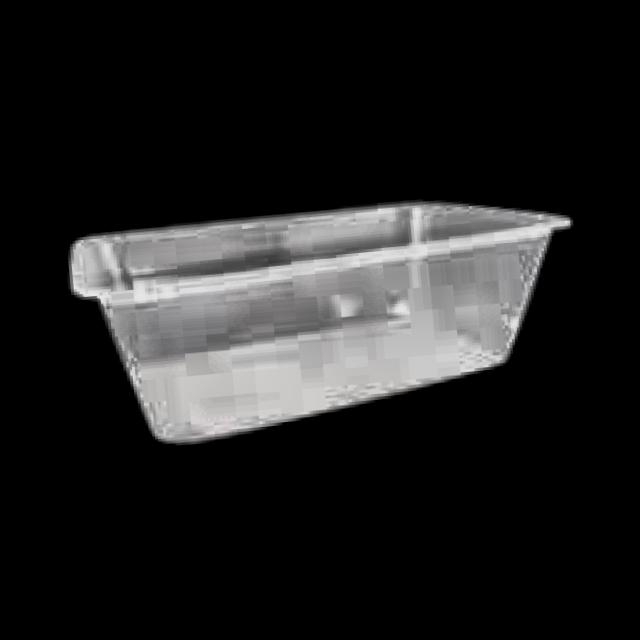plastic container: (70, 201, 570, 443)
